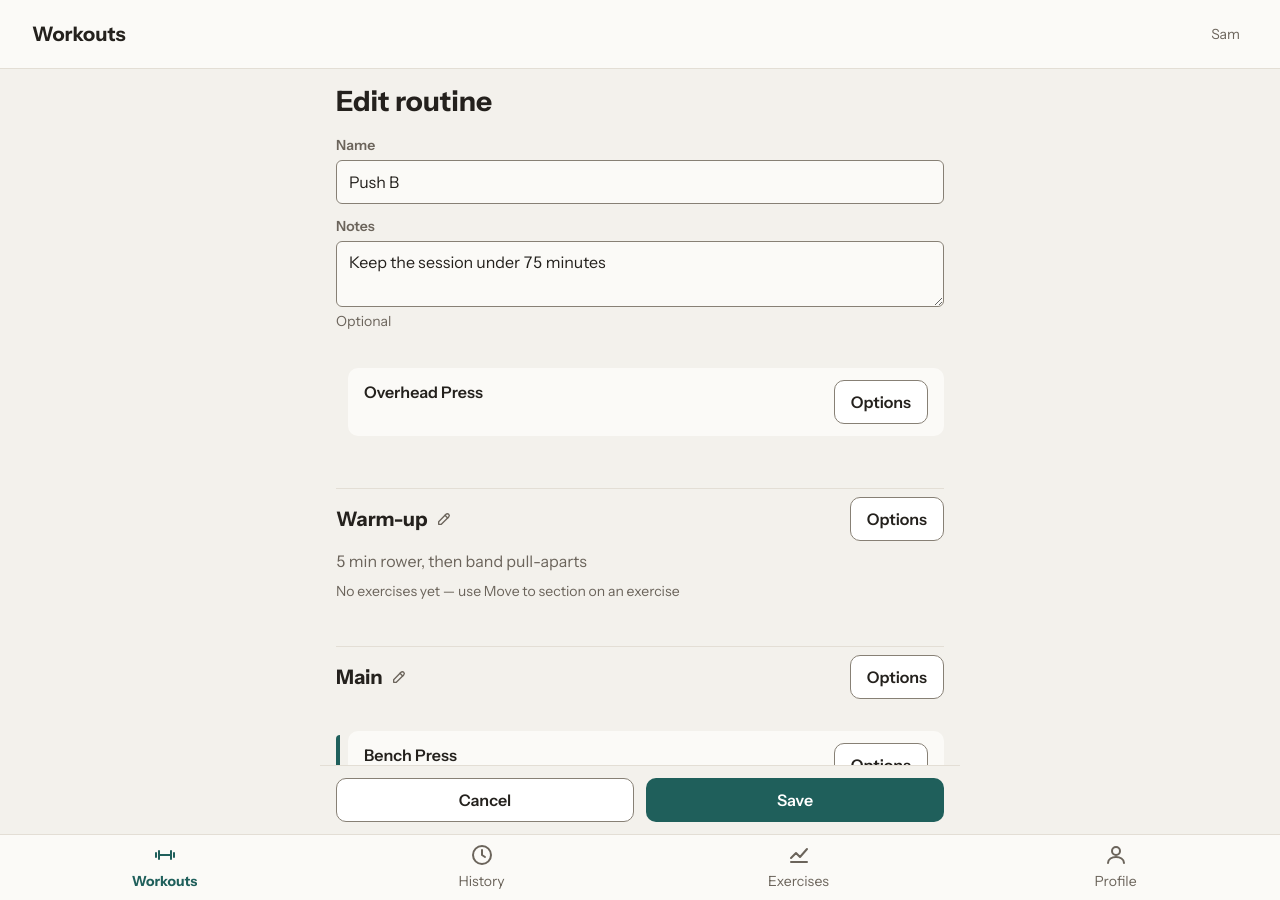
Test: 10.3 AC37 — accessibility (component level): editor › regions, starters as a labeled group, targeted control names, disabled reasons in text
Check: the field labelled "Name" is shown, box x1=336 y1=160 x2=944 y2=204
Check: the element "Warm-up" is shown, box x1=336 y1=488 x2=944 y2=602
Step 1. Click the button with aria-label "Options for section Warm-up" → x=897, y=519, box x1=850 y1=497 x2=944 y2=541
(page scrolled)
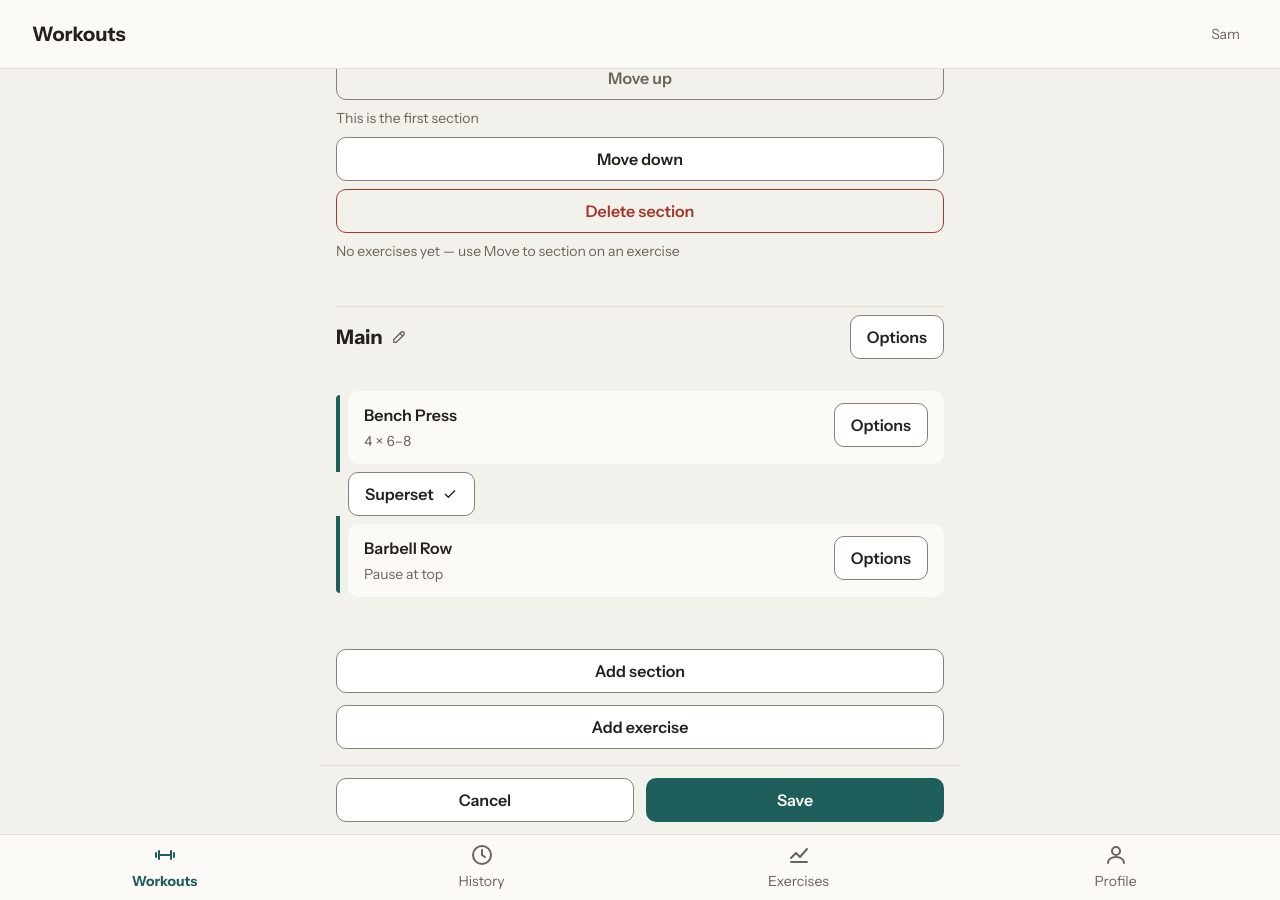
Check: the button with aria-label "Move Warm-up up" is disabled, box x1=336 y1=69 x2=944 y2=100
Check: the button with aria-label "Delete section Warm-up" is shown, box x1=336 y1=189 x2=944 y2=233
Step 2. Click the button "Add section" → x=640, y=671, box x1=336 y1=649 x2=944 y2=693
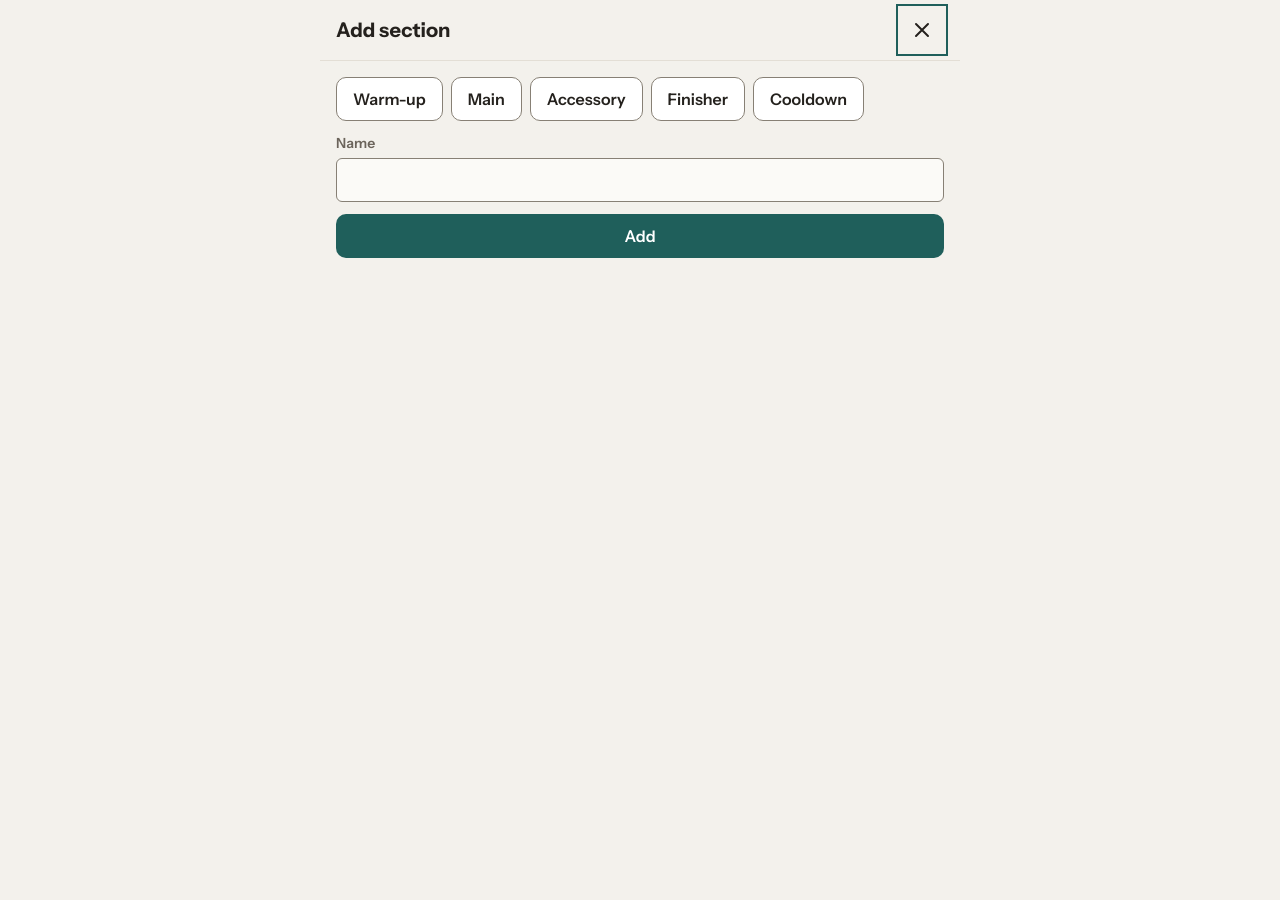
Check: the element named "Section names" is shown, box x1=336 y1=77 x2=944 y2=121
